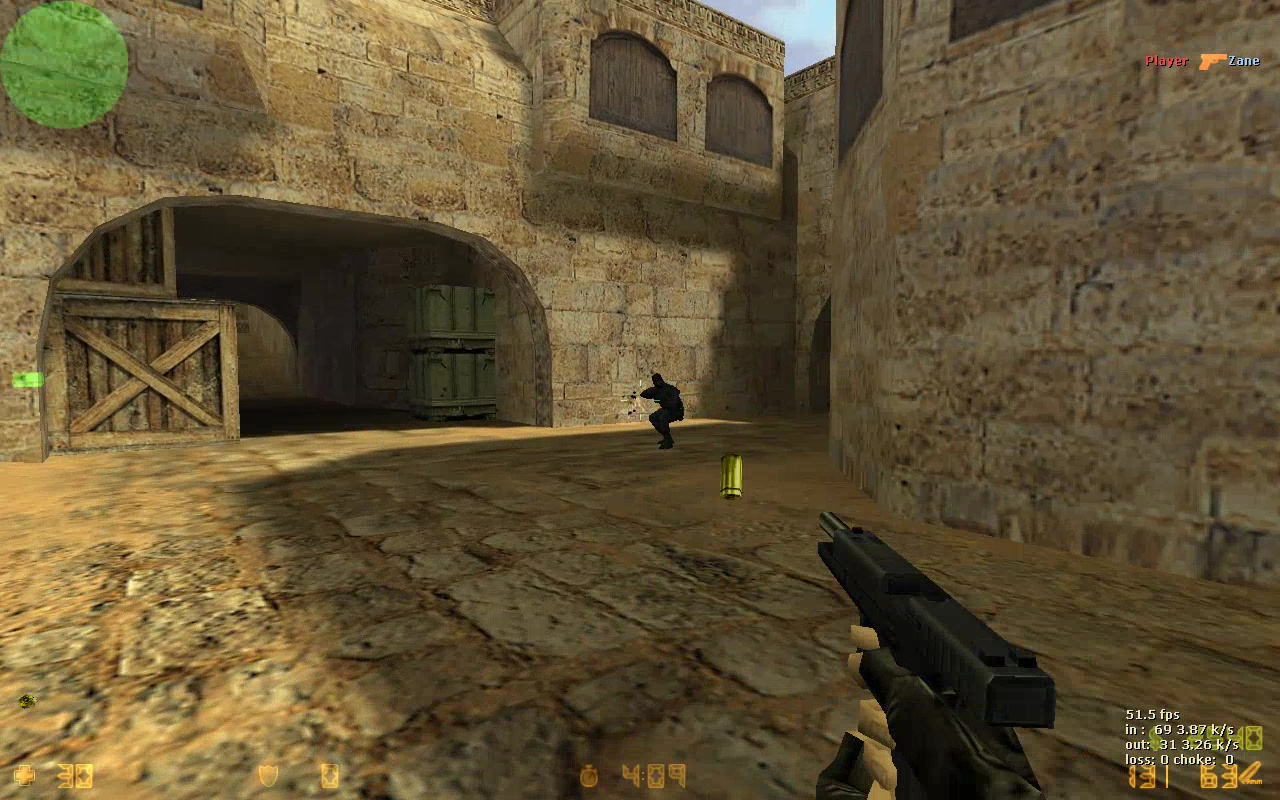ct: (642, 374, 687, 454)
